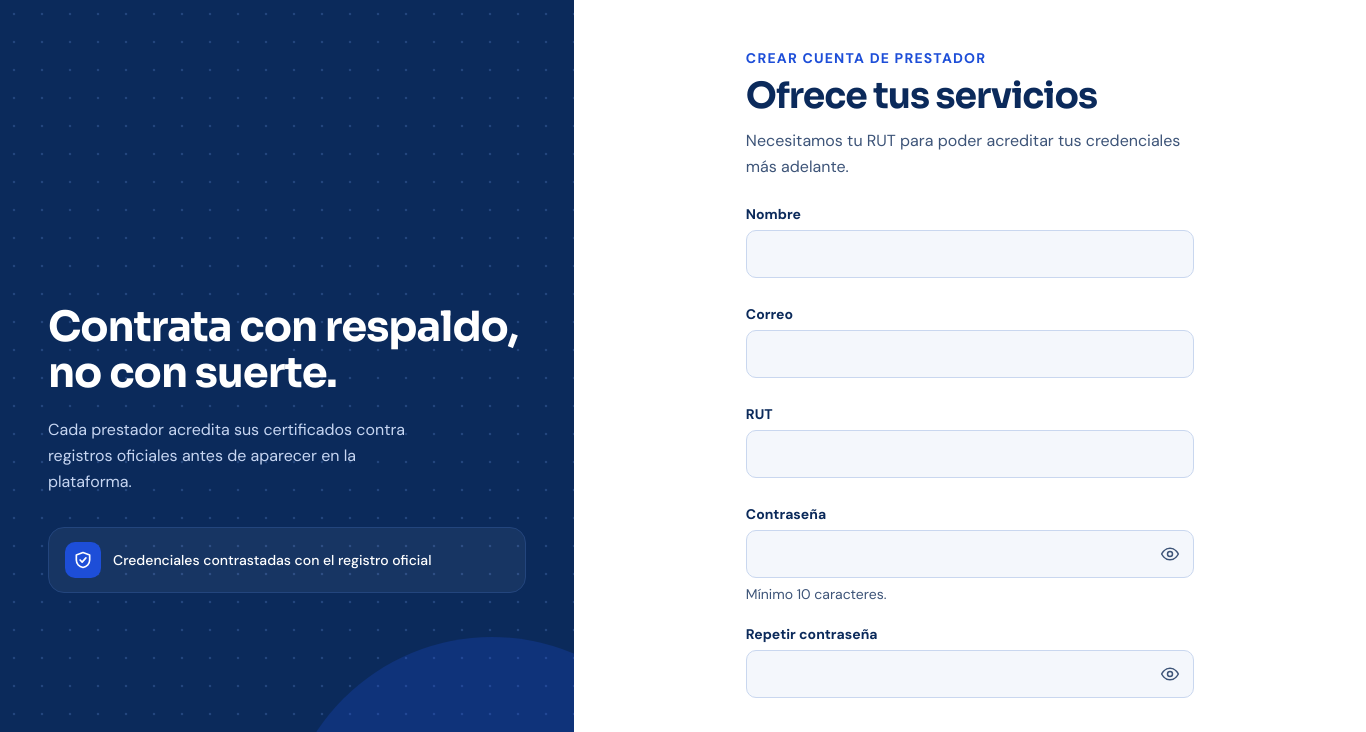
Scenario: Registro de prestador › muestra el RUT normalizado mientras se escribe
The width and height of the screenshot is (1366, 732).
Type "12345678-5" into the field labelled "RUT" at (970, 454), box [746, 430, 1194, 478]
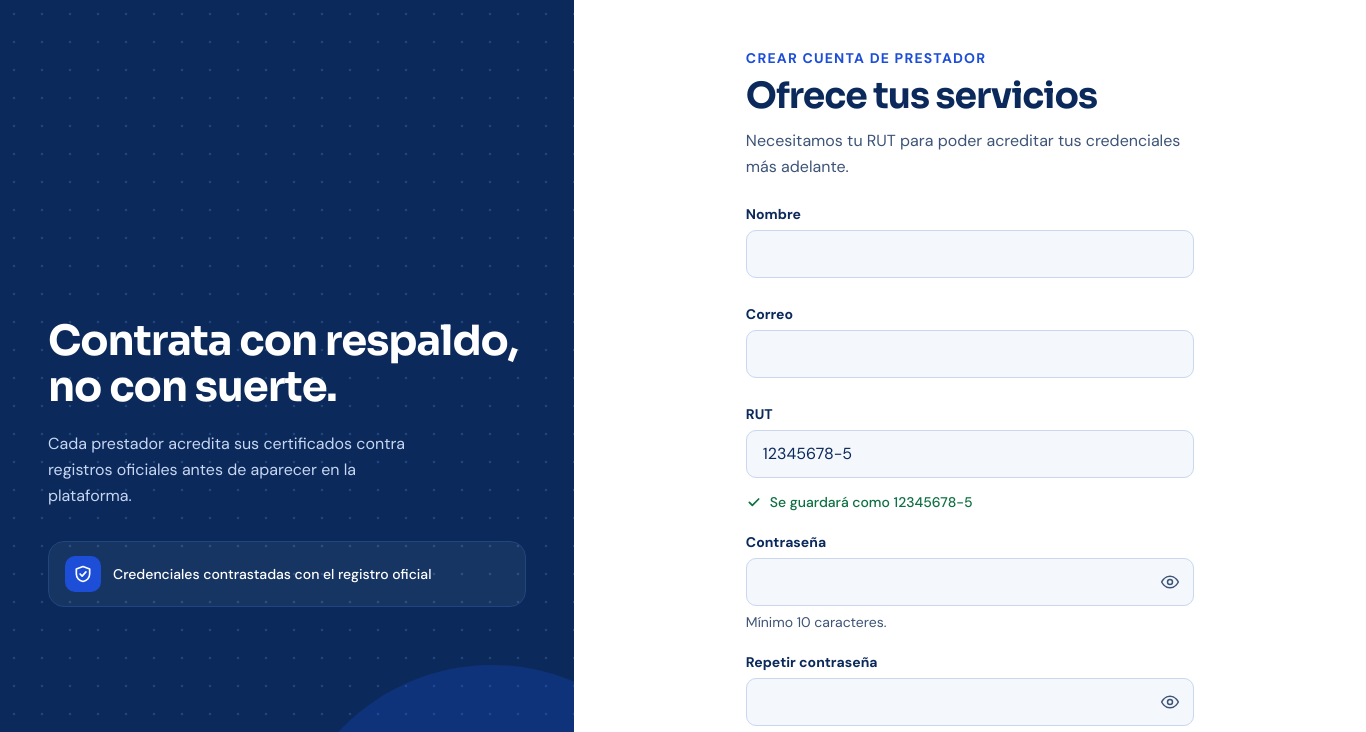
Expected: the text "Se guardará como 12345678-5" is shown, [746, 493, 973, 511]
